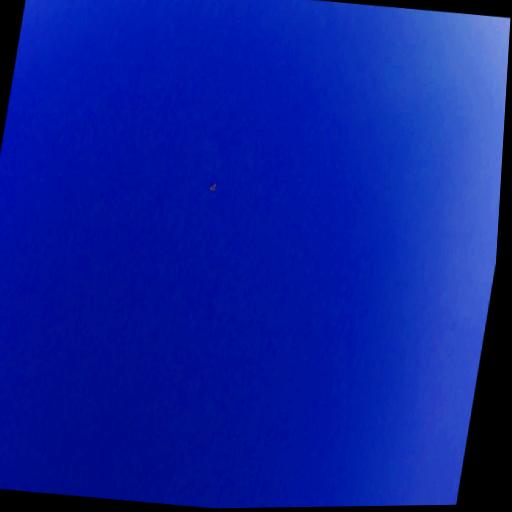drones: (204, 176, 221, 196)
